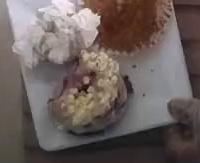donut: (47, 50, 127, 135)
